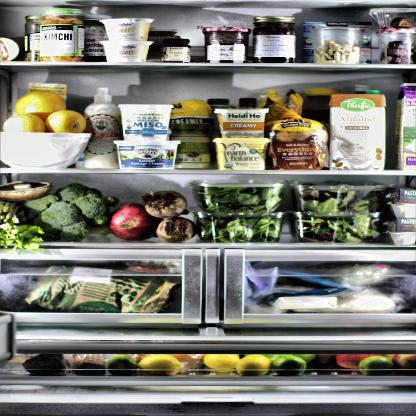apple: (109, 203, 156, 239), (358, 356, 394, 375), (272, 357, 307, 374)
broccoli: (41, 188, 112, 240)
lemon: (15, 91, 68, 114), (47, 111, 87, 131), (139, 355, 181, 374), (3, 115, 47, 132), (239, 355, 271, 374), (203, 354, 238, 370)
milk: (330, 91, 387, 169)
mushrooms: (3, 182, 50, 199)
parsley: (2, 224, 40, 245)
yoghurt: (118, 104, 174, 139), (115, 140, 181, 169), (99, 18, 154, 40), (100, 40, 154, 61)
